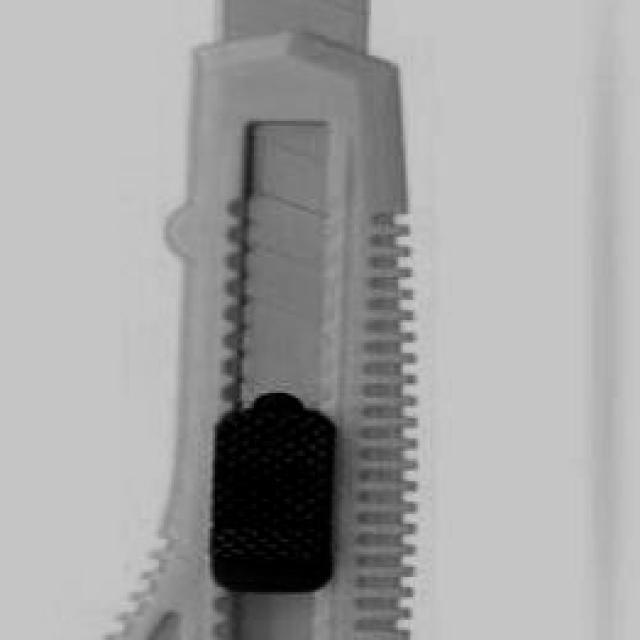estilete: (112, 0, 414, 640)
